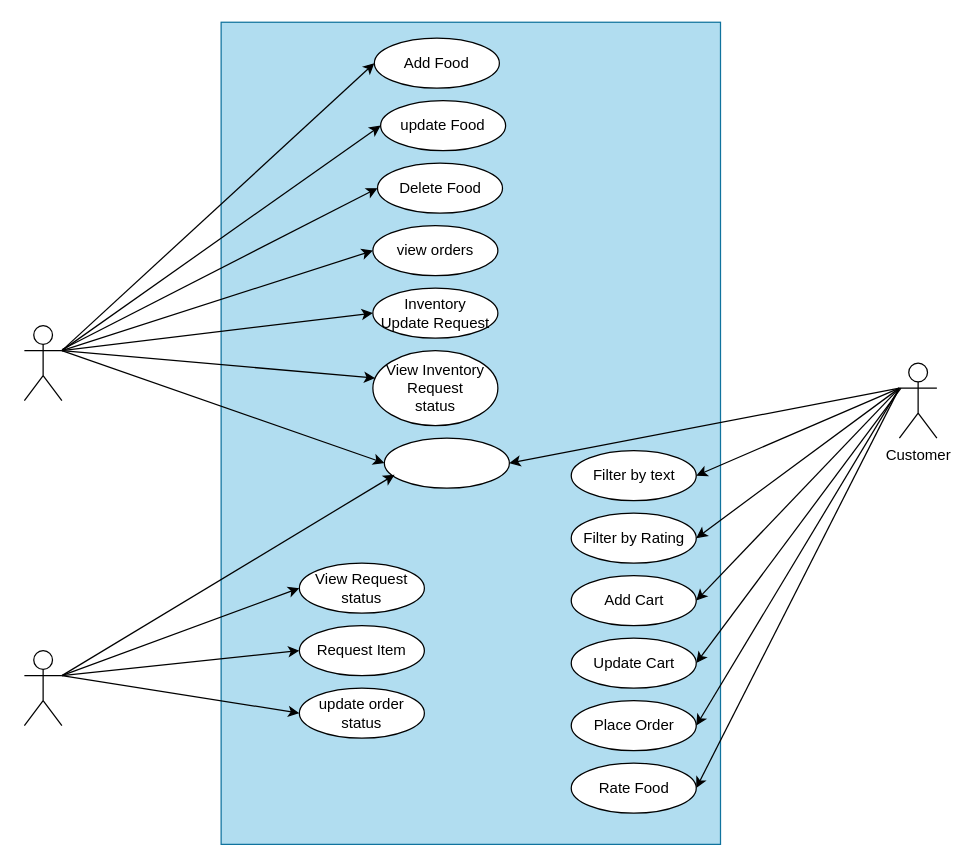
The diagram is 973 pixels wide and 866 high, and some of its shapes have lost their labels. Each missing label, with the centre of its shape:
"Admin" belongs at pixel 42 362.
"Chef" belongs at pixel 42 687.
"Login" belongs at pixel 446 462.
